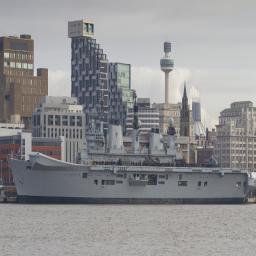Portanaves: (8, 67, 254, 205)
